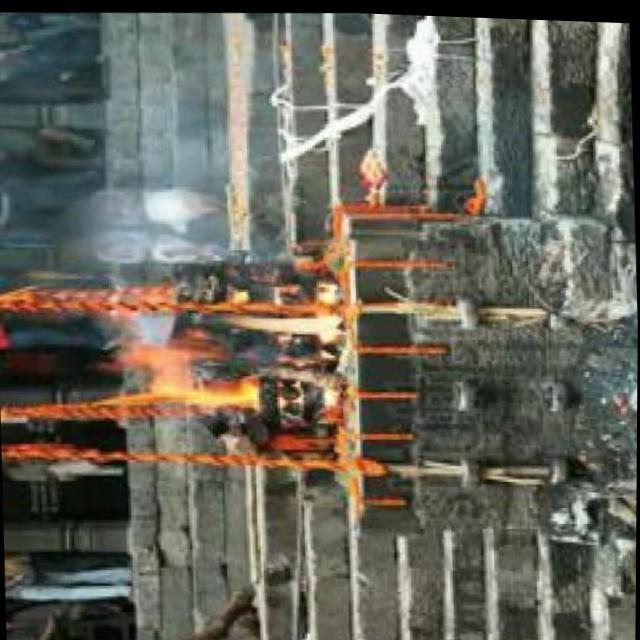Fire: (91, 290, 352, 417)
